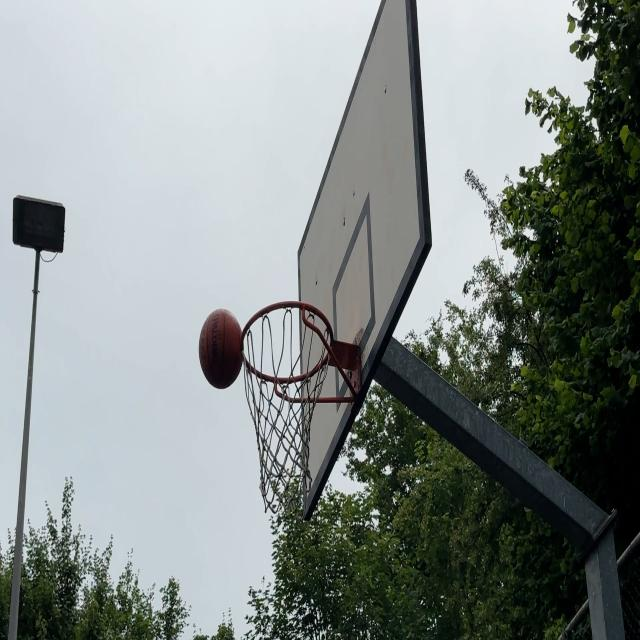rebound_hit: (198, 309, 248, 390)
